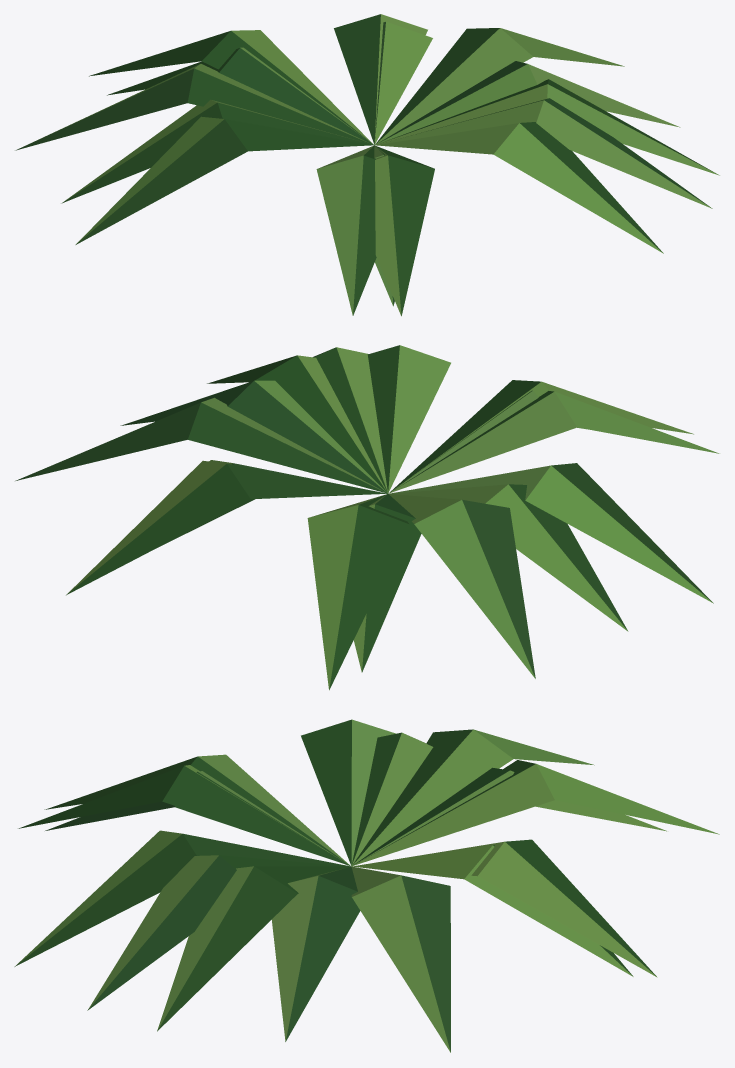
The model's file is fern.glb.
3 renders of one model, top to bottom at view 1: azimuth 30°, elevation 25°; view 2: azimuth 150°, elevation 25°; view 3: azimuth 270°, elevation 25°, orthographic. The views are drawn at different scales.
Visible parts, largest first — view 1: fern-c, fern-b, fern-a; view 2: fern-b, fern-c, fern-a; view 3: fern-b, fern-c, fern-a.
Boxes of the visible parts, left/top/right/bottom form: fern-c: left=61, top=22, right=680, bottom=315; fern-b: left=75, top=28, right=719, bottom=306; fern-a: left=15, top=14, right=712, bottom=316; fern-b: left=15, top=355, right=713, bottom=690; fern-c: left=120, top=345, right=719, bottom=672; fern-a: left=66, top=347, right=693, bottom=678; fern-b: left=45, top=719, right=719, bottom=1052; fern-c: left=14, top=732, right=666, bottom=1041; fern-a: left=18, top=729, right=657, bottom=1010.
Size of the model in its own units: 0.8253 by 0.1242 by 0.7817.
